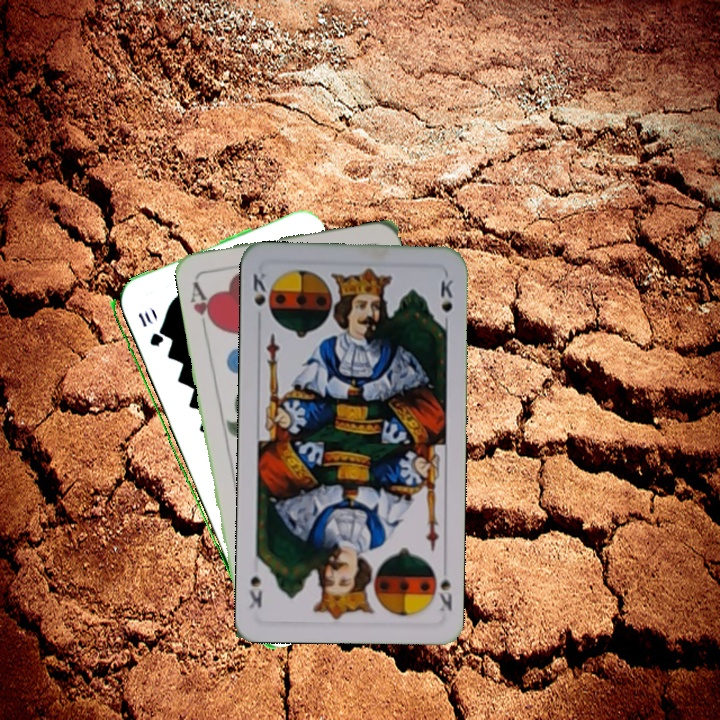G10: (134, 307, 163, 349)
HA: (186, 277, 218, 335)
SK: (249, 267, 269, 326), (435, 559, 454, 614)
